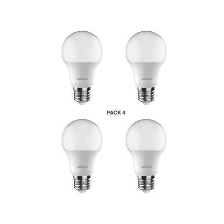light_bulb: (120, 27, 170, 106), (120, 114, 170, 192), (57, 116, 104, 195), (60, 28, 104, 107)
